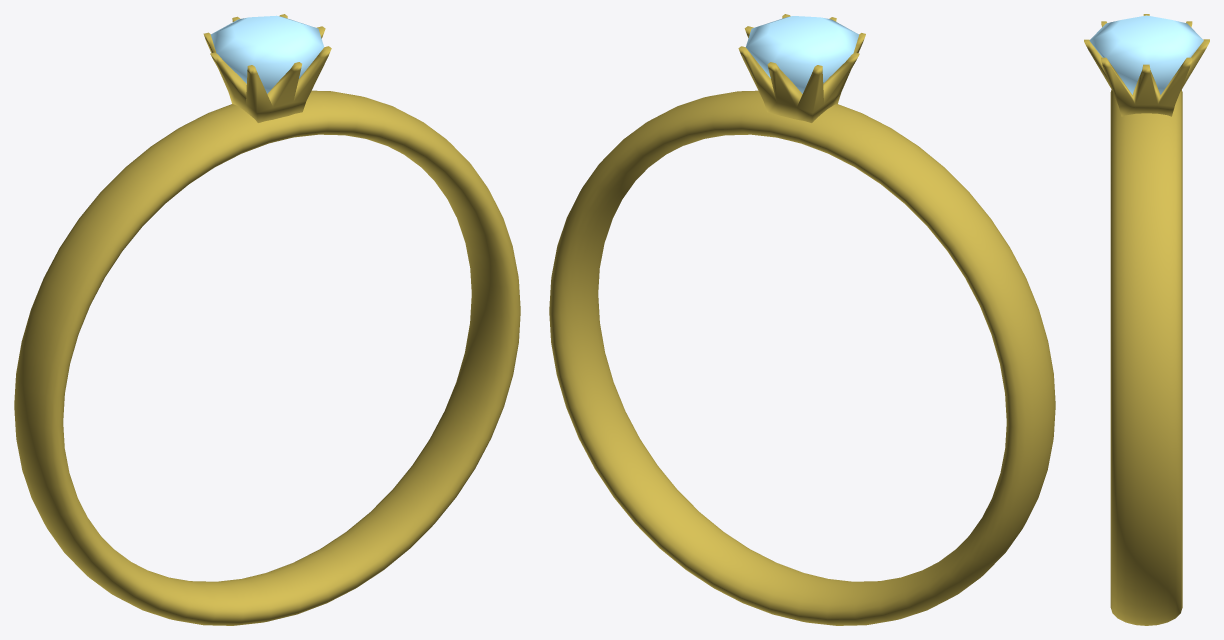
3 renders of one model, left to right at view 1: azimuth 30°, elevation 25°; view 2: azimuth 150°, elevation 25°; view 3: azimuth 270°, elevation 25°, orthographic. The views are drawn at different scales.
Visible parts, largest first — view 1: Band, Jewel, Cradle; view 2: Band, Jewel, Cradle; view 3: Band, Jewel, Cradle.
Boxes of the visible parts, <box> form: Band: <box>14,90,520,625</box>; Jewel: <box>210,15,324,93</box>; Cradle: <box>203,14,331,122</box>; Band: <box>549,90,1055,625</box>; Jewel: <box>745,16,858,93</box>; Cradle: <box>738,14,865,122</box>; Band: <box>1110,89,1182,625</box>; Jewel: <box>1089,15,1203,94</box>; Cradle: <box>1084,14,1209,116</box>.
Bounding box in the file's own units: 3.44 × 3.92 × 0.7848.
